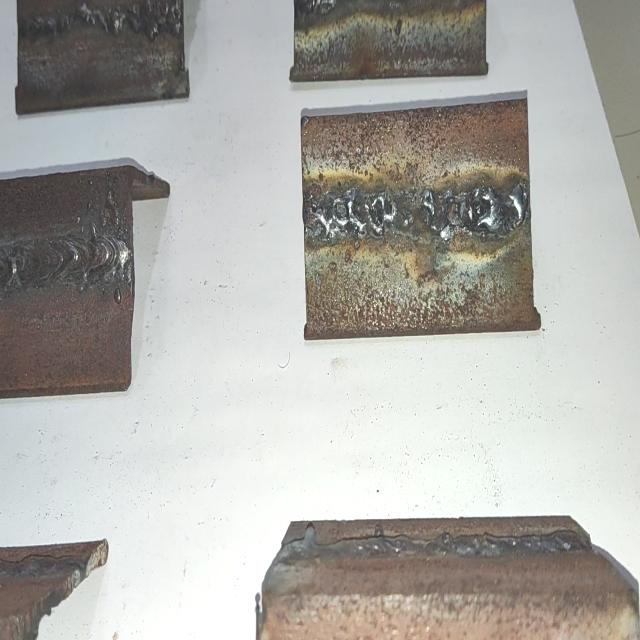Defect: (430, 182, 527, 241), (24, 0, 181, 36), (307, 188, 394, 244)
Good Weld: (2, 233, 128, 287)
